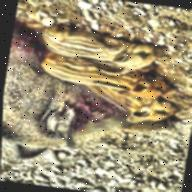boar: (1, 52, 192, 171), (43, 51, 187, 101), (49, 16, 169, 75), (83, 86, 188, 131)
